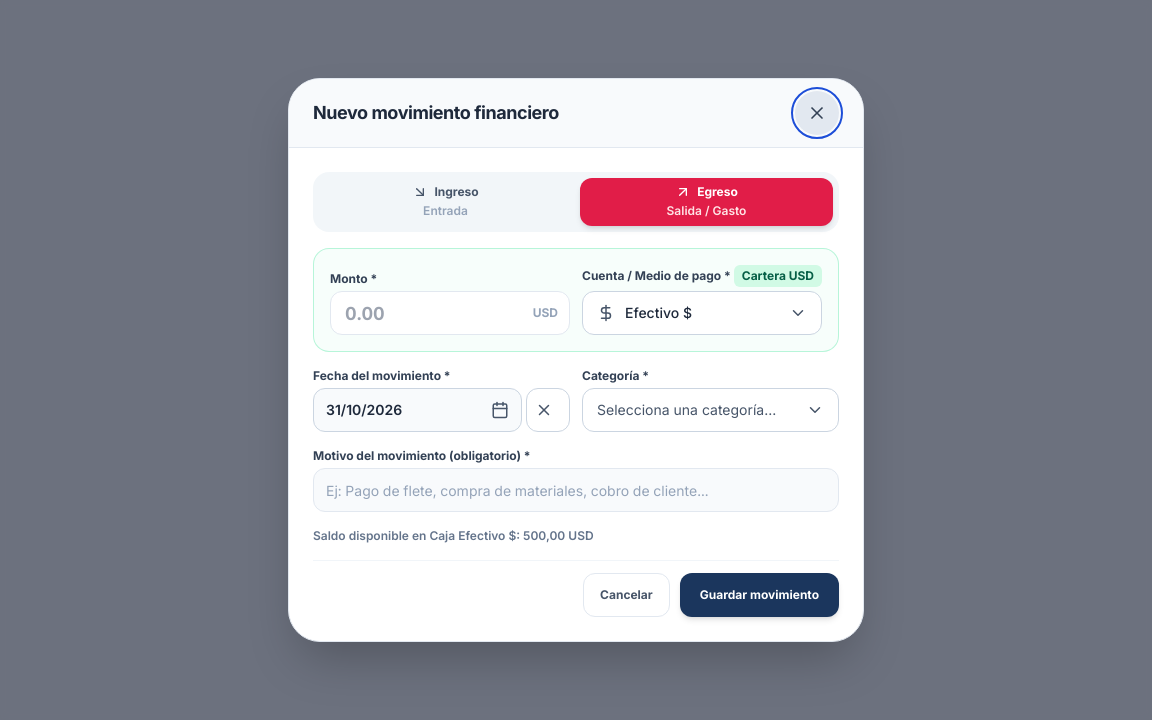
MovimientoForm › muestra la tarjeta de resumen previa a guardar cuando hay monto
Click the button "Egreso Salida / Gasto". click: (706, 202)
box: [580, 178, 833, 226]
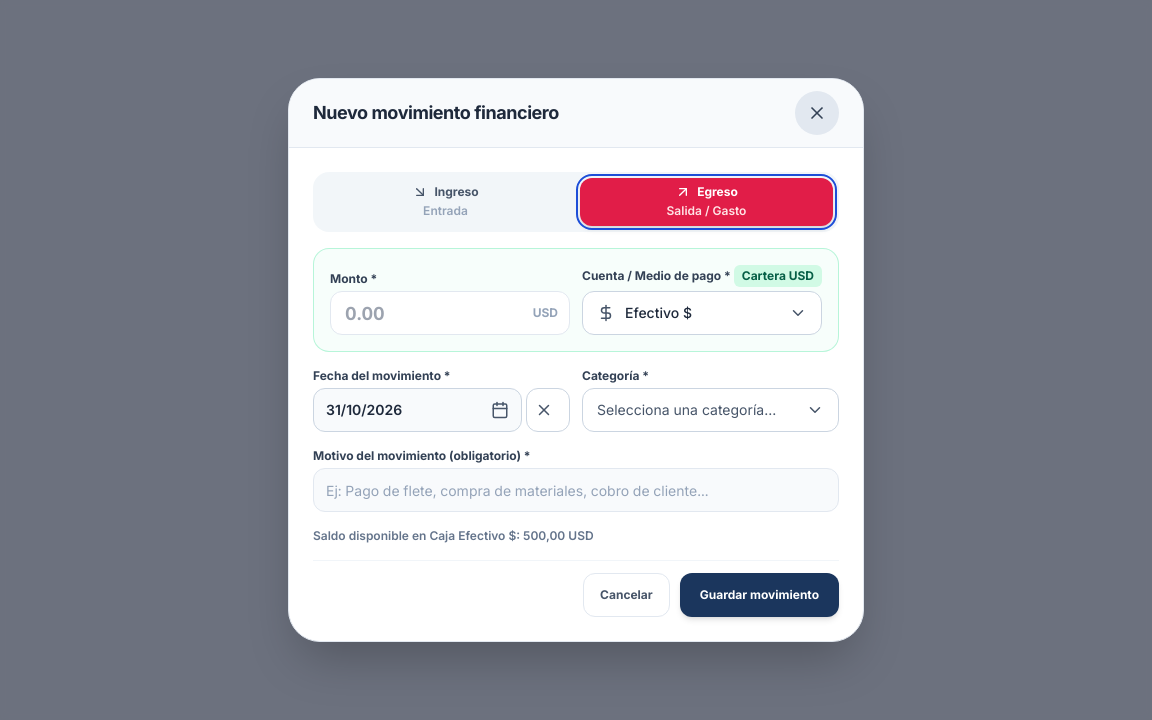
Expected: the text "resumen del movimiento" is not shown
Type "150" into the field with placeholder "0.00". click: (450, 313)
box: [330, 291, 570, 335]
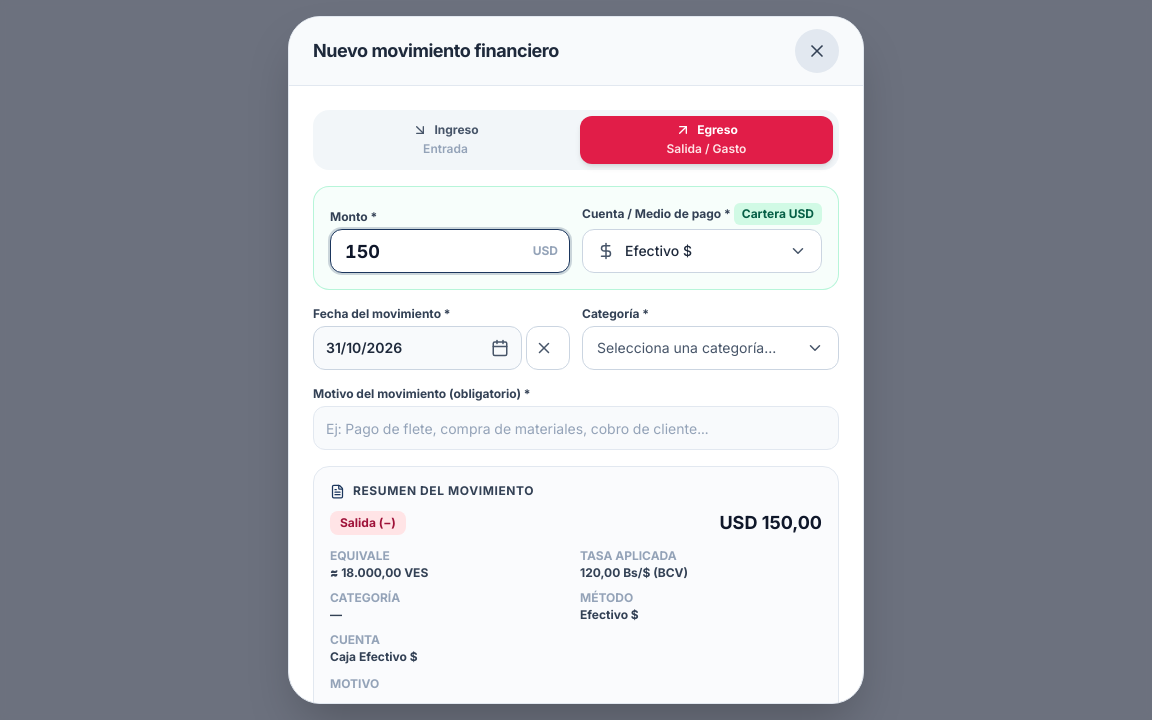
Result: the text "Resumen del movimiento" is shown at [353, 483, 534, 499]
Result: the text "Salida (−)" is shown at [330, 511, 406, 535]
Result: the text "USD 150,00" is shown at [719, 509, 822, 537]
